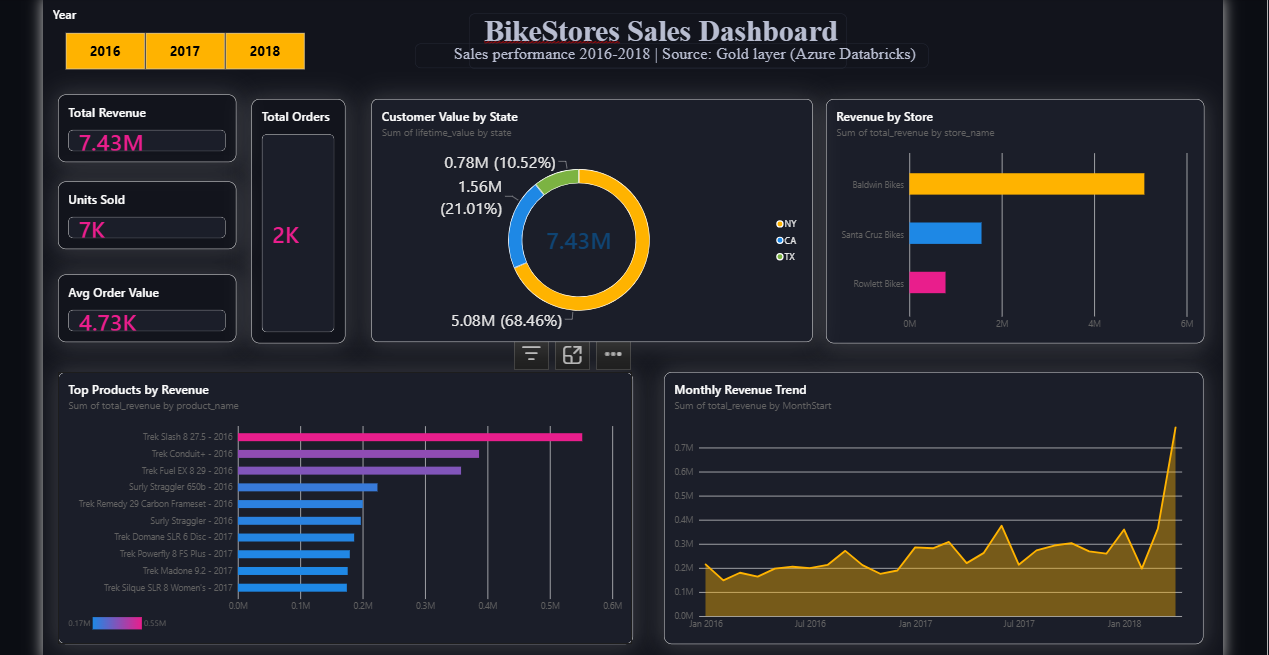

This screenshot's page, from the dashboard's own definition file:
{"tool":"powerbi","page":{"name":"Page 1","canvas":[1920,1080],"ordinal":0},"visuals":[{"type":"clusteredBarChart","title":"Top 10 Products by Revenue","fields":{"Category":["top_products.product_name"],"Y":["Sum(top_products.total_revenue)"]},"box":[24.4,590.5,956.4,463.6],"z":0,"group":"g1"},{"type":"lineChart","title":"Monthly Revenue Trend","fields":{"Category":["monthly_sales.MonthStart"],"Y":["Sum(monthly_sales.total_revenue)"]},"box":[1010.1,590.5,878.3,463.6],"z":1000,"group":"g1"},{"type":"slicer","title":"Year","fields":{"Values":["monthly_sales.year"]},"box":[0,2.5,534.3,134.2],"z":2000,"group":"g1"},{"type":"clusteredBarChart","title":"Revenue by Store","fields":{"Category":["revenue_by_store.store_name"],"Y":["Sum(revenue_by_store.total_revenue)"]},"box":[1273.6,136.7,614.8,429.4],"z":3000,"group":"g1"},{"type":"donutChart","title":"Customer Value by State","fields":{"Category":["customer_ltv.state"],"Y":["Sum(customer_ltv.lifetime_value)"]},"box":[535,136.4,717.3,427],"z":4000,"group":"g1"},{"type":"textbox","box":[595.3,33.1,844.2,102.5],"z":5000,"group":"g1"},{"type":"textbox","box":[1795.7,35.5,124.4,83],"z":6000,"group":"g1"},{"type":"cardVisual","title":"Total Revenue ","fields":{"Data":["monthly_sales.Total Revenue"]},"box":[24.4,136.7,290.3,141.5],"z":7000,"group":"g1"},{"type":"cardVisual","title":"Total Orders","fields":{"Data":["monthly_sales.Total Orders"]},"box":[348.9,166,152.5,397.5],"z":8000,"group":"g1"},{"type":"cardVisual","title":"Units Sold","fields":{"Data":["monthly_sales.Units Sold"]},"box":[26.8,280.6,290.3,141.5],"z":9000,"group":"g1"},{"type":"cardVisual","title":"Avg Order Value","fields":{"Data":["monthly_sales.AOV"]},"box":[24.4,424.6,290.3,141.5],"z":10000,"group":"g1"},{"type":"group","id":"g1","title":"Group 1","box":[0,2.5,1920.1,1051.6],"z":10001}]}

Visuals, with their boxes on the page's 1920x1080 design canvas (x1, y1, x2, y2). These are canvas units, not pixel positions in the 1269x655 screenshot, which may show the page scaled, cropped or inside an application window:
"Top 10 Products by Revenue" clusteredBarChart: bbox=[24, 590, 981, 1054]
"Monthly Revenue Trend" lineChart: bbox=[1010, 590, 1888, 1054]
"Year" slicer: bbox=[0, 2, 534, 137]
"Revenue by Store" clusteredBarChart: bbox=[1274, 137, 1888, 566]
"Customer Value by State" donutChart: bbox=[535, 136, 1252, 563]
textbox: bbox=[595, 33, 1440, 136]
textbox: bbox=[1796, 36, 1920, 118]
"Total Revenue " cardVisual: bbox=[24, 137, 315, 278]
"Total Orders" cardVisual: bbox=[349, 166, 501, 564]
"Units Sold" cardVisual: bbox=[27, 281, 317, 422]
"Avg Order Value" cardVisual: bbox=[24, 425, 315, 566]
"Group 1" group: bbox=[0, 2, 1920, 1054]
